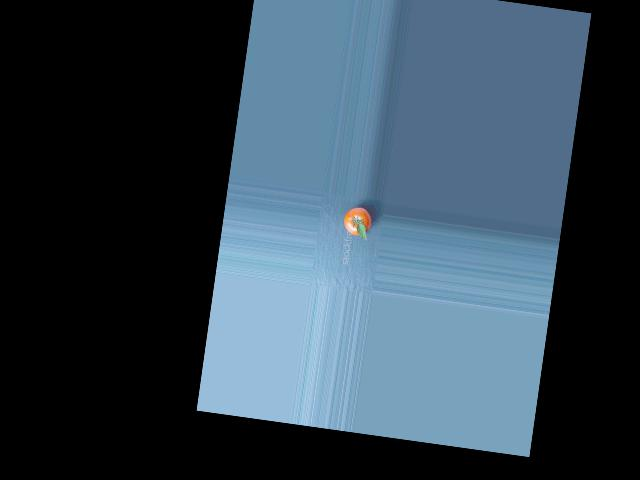tomato: (342, 205, 373, 237)
